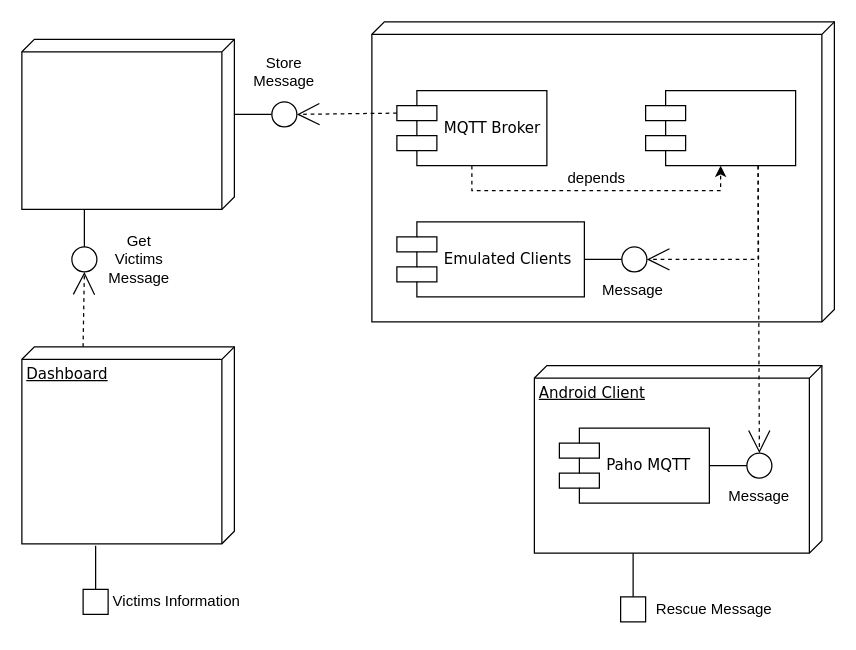
Image size: 856x650. Some labels were removed from this diagram. The shapes that lost their labels are listed below. From the top down, each one's box as (x1, y1, x2, y2) in pixels, then its label:
(21, 38, 234, 209): Cloud Database
(644, 89, 796, 166): MQTT Bridge
(371, 21, 834, 322): Virtual Machine
